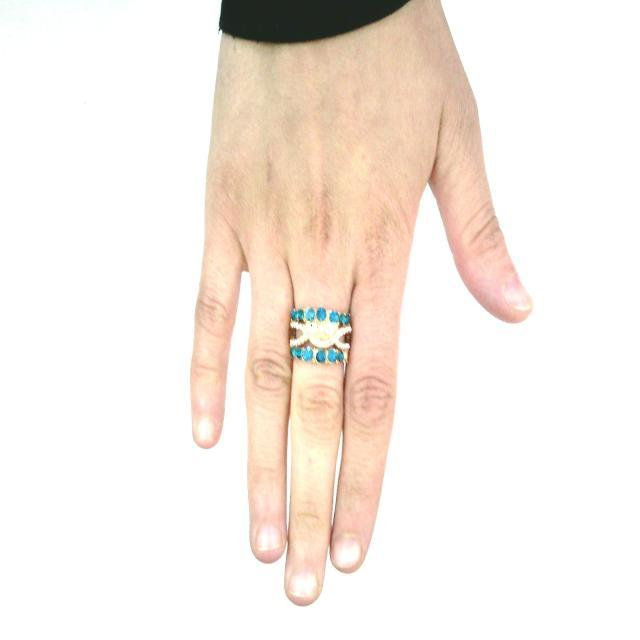Fingernail: (505, 281, 532, 310), (335, 538, 360, 567), (290, 572, 317, 597), (257, 527, 281, 551), (197, 420, 215, 441)
